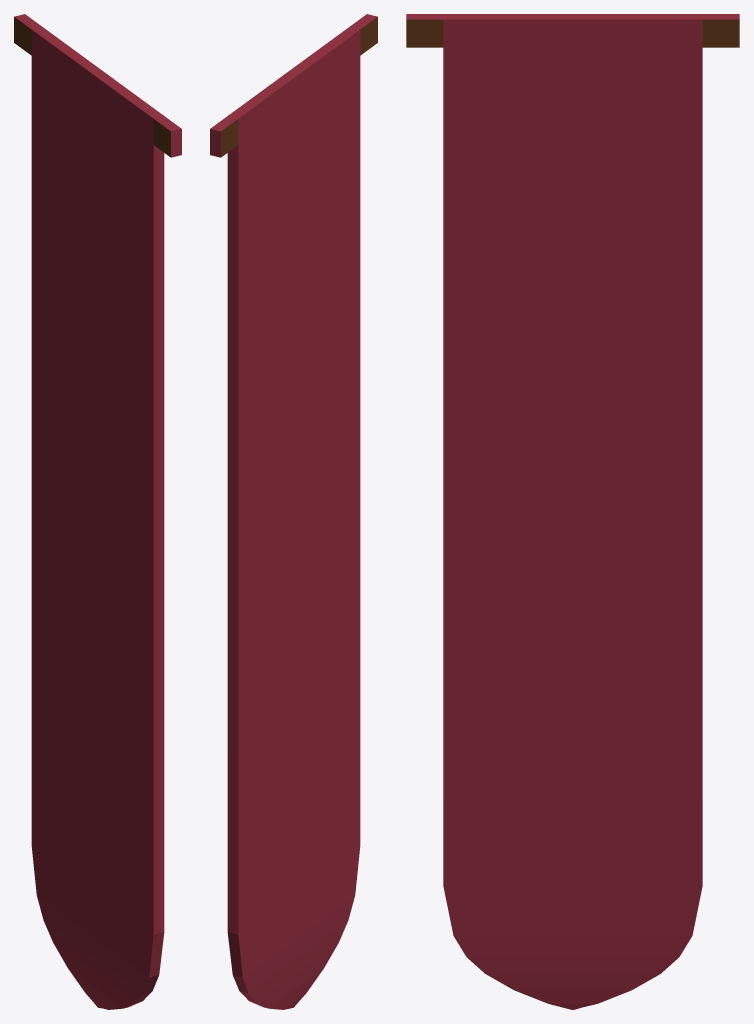
The model's file is Banner2.fbx.
The picture shows the model from 3 angles, left to right: view 1: azimuth 30°, elevation 25°; view 2: azimuth 150°, elevation 25°; view 3: azimuth 270°, elevation 25°; orthographic projection. The views are drawn at different scales.
Parts seen in each view (by area): view 1: Cube; view 2: Cube; view 3: Cube.
Boxes of the visible parts, x1,y1,x2,y2 form: Cube: [14, 14, 181, 1009]; Cube: [210, 14, 377, 1009]; Cube: [406, 14, 739, 1009].
Size of the model in its own units: 10.27 by 846 by 257.
